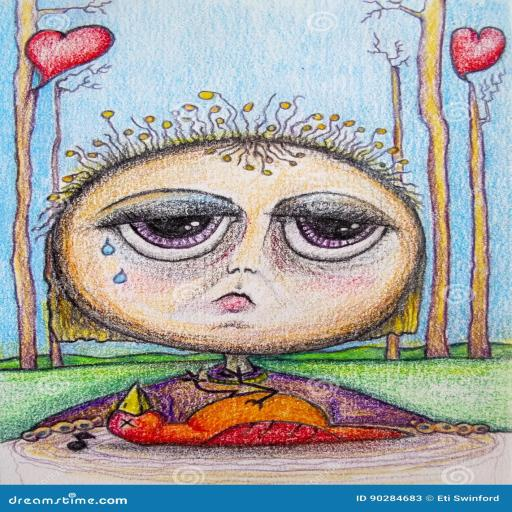person: (21, 87, 442, 470)
